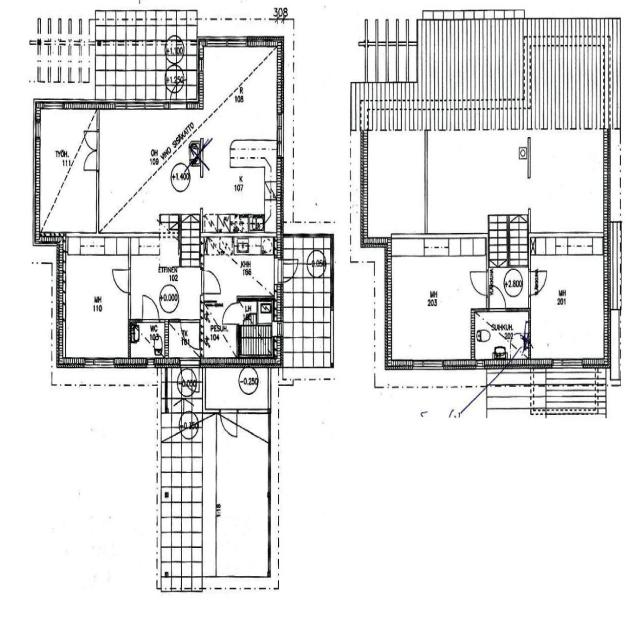door: (180, 357, 199, 395), (180, 318, 199, 349), (170, 75, 186, 109), (274, 260, 298, 282), (142, 294, 159, 322), (220, 408, 236, 437), (200, 270, 219, 293), (489, 284, 505, 311), (222, 302, 241, 324), (112, 269, 130, 292), (528, 271, 546, 294), (471, 271, 488, 294), (83, 150, 99, 170), (83, 131, 99, 150)
